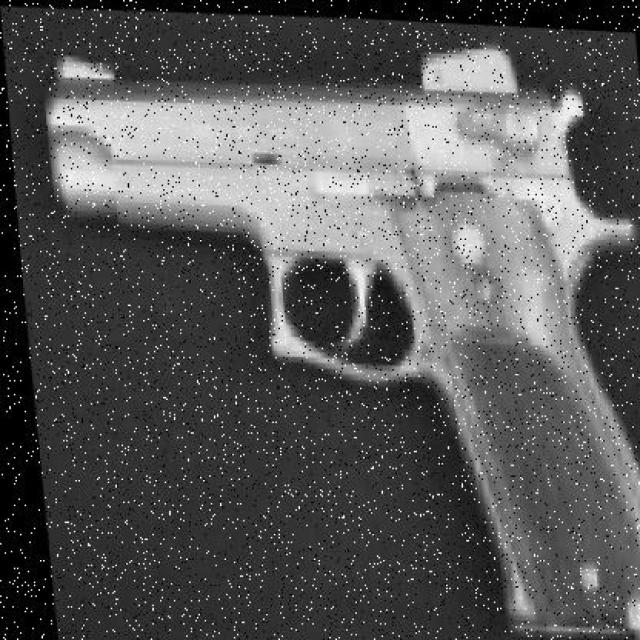weapon: (44, 47, 638, 632)
